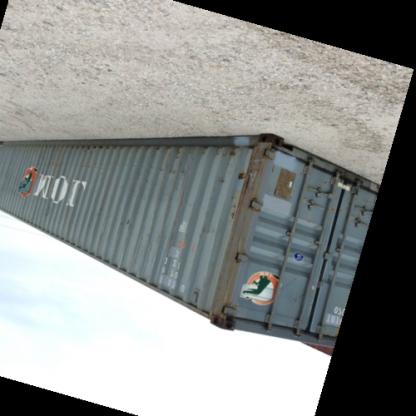Damage: (14, 153, 58, 224), (232, 165, 258, 192), (202, 144, 238, 163), (223, 193, 242, 227), (152, 166, 192, 182), (199, 231, 228, 242), (116, 219, 131, 234), (216, 176, 228, 188)
